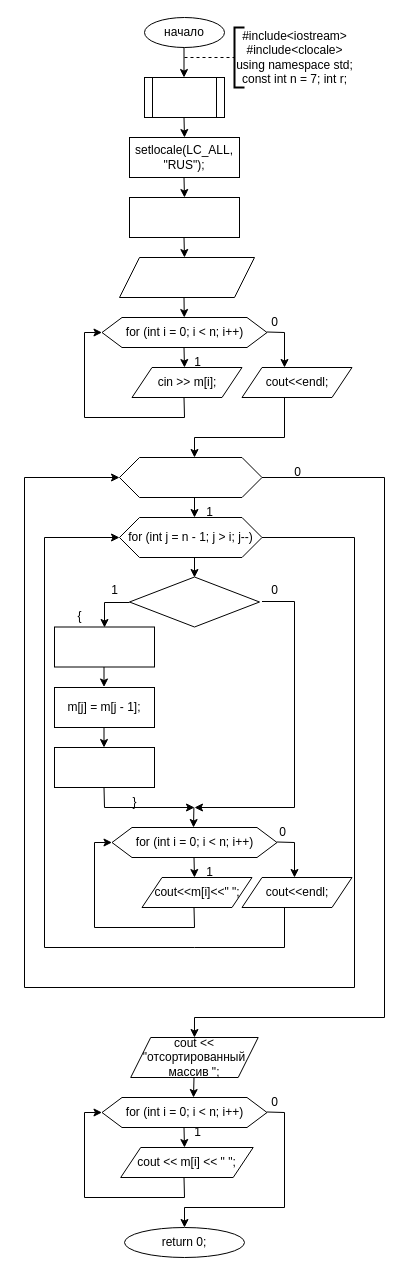
Image size: 410x1275. Some labels were removed from this diagram. The centre of each missing label's shape, as x and y in pixels:
cout << "исходный массив ";: pixel 186 277
for (int i = 0; i < n - 1; i++): pixel 190 477
if (m[j] < m[j - 1]): pixel 194 601
int m[n] = {};: pixel 184 217
int main(): pixel 184 97
m[j - 1] = r;: pixel 104 767
r = m[j];: pixel 104 646
